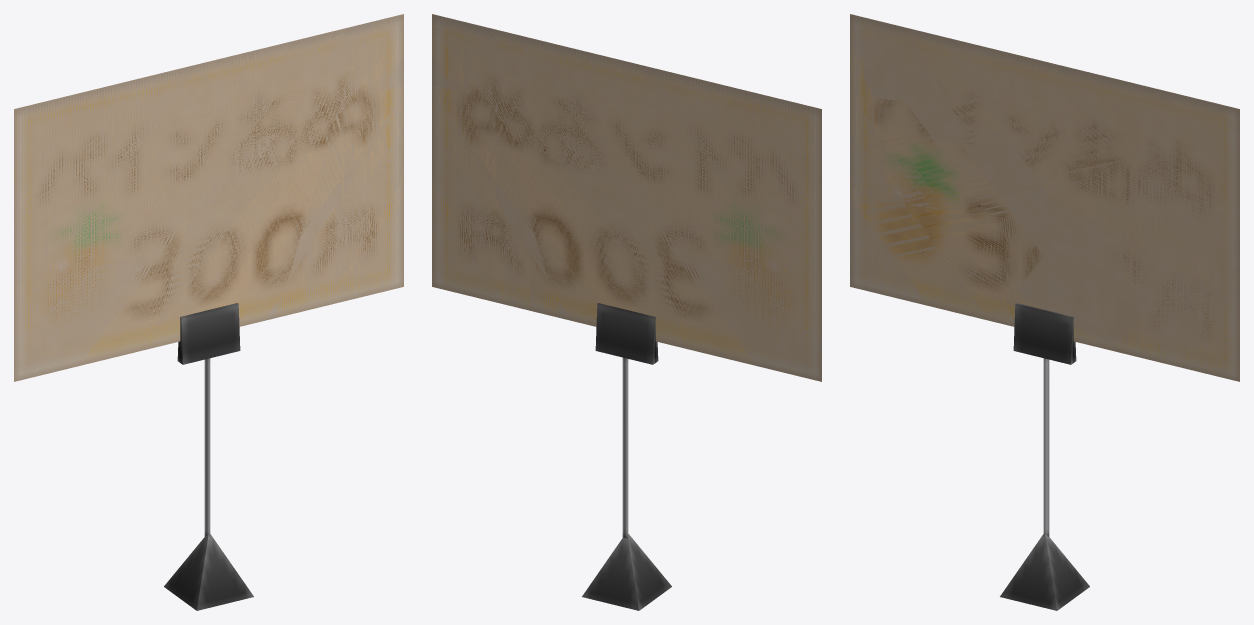
File: jsf_Flyer_AppleCandy_17.fbx
3 views of the same model, side by side, from view 1: azimuth 30°, elevation 25°; view 2: azimuth 150°, elevation 25°; view 3: azimuth 330°, elevation 25° (orthographic).
Parts seen in each view (by area): view 1: jsf_Flyer_AppleCandy_17; view 2: jsf_Flyer_AppleCandy_17; view 3: jsf_Flyer_AppleCandy_17.
Boxes of the visible parts, left/top/right/bottom form: jsf_Flyer_AppleCandy_17: left=14, top=14, right=403, bottom=610; jsf_Flyer_AppleCandy_17: left=432, top=14, right=821, bottom=610; jsf_Flyer_AppleCandy_17: left=850, top=14, right=1239, bottom=610.
Bounding box in the file's own units: 8.82 × 11.47 × 1.3.
